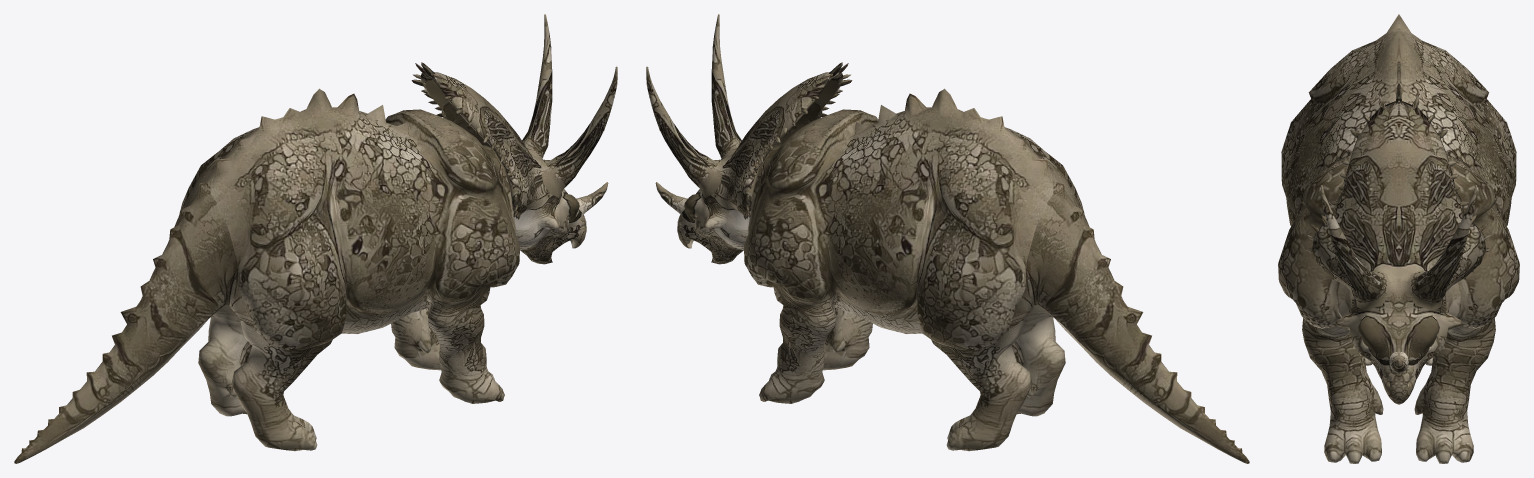
The model's file is hornface_2.glb.
The picture shows the model from 3 angles, left to right: view 1: azimuth 30°, elevation 25°; view 2: azimuth 150°, elevation 25°; view 3: azimuth 270°, elevation 25°; orthographic projection. The views are drawn at different scales.
Size of the model in its own units: 353 by 187 by 115.
1 material, 1 textured.
